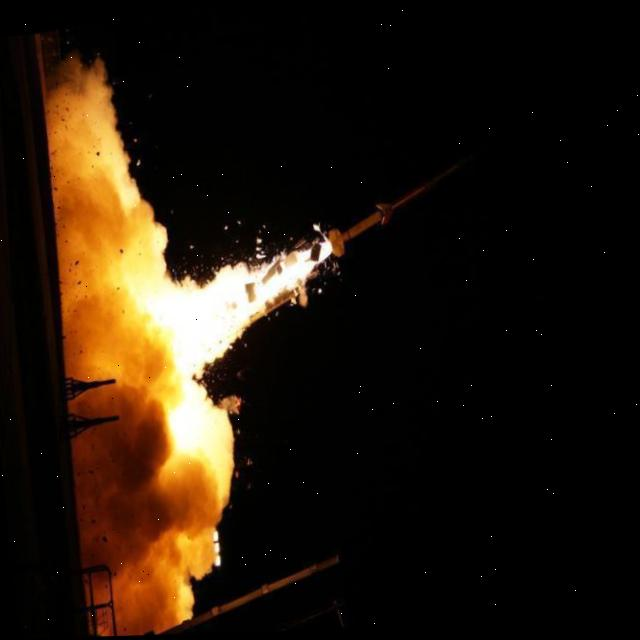missile: (312, 153, 479, 261)
